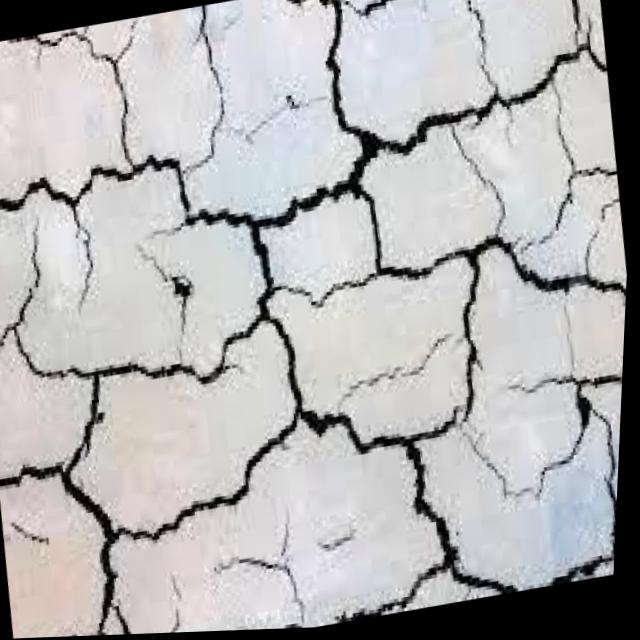Crack: (0, 17, 639, 640)
